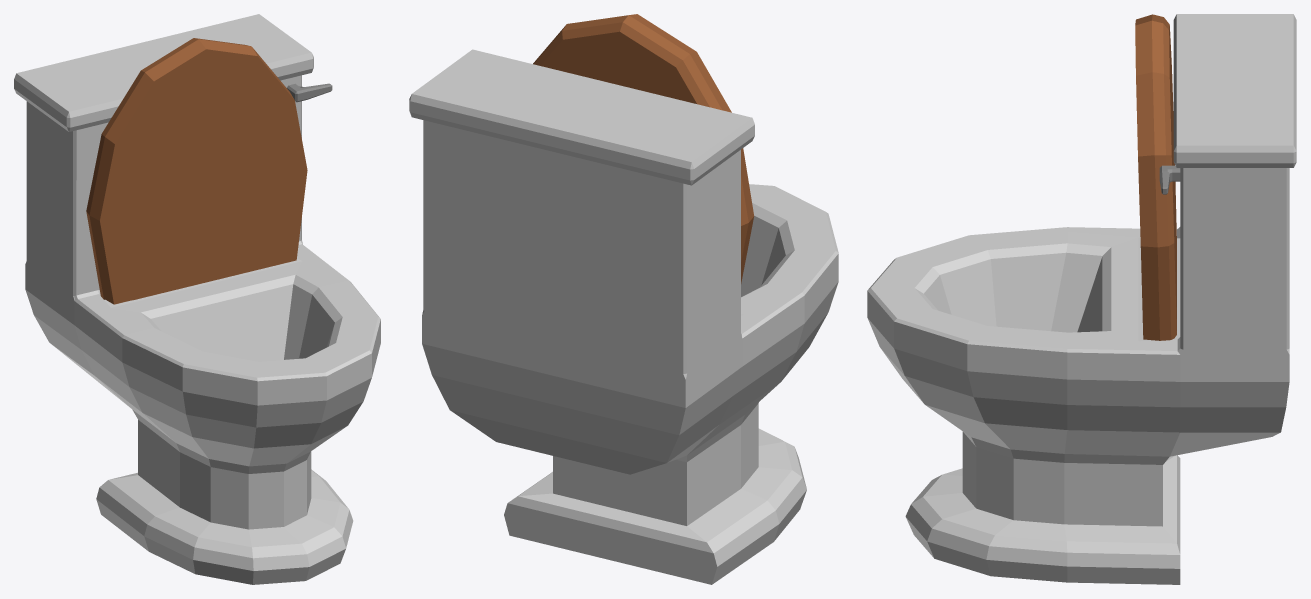
Rendered from Toilet.glb.
3 renders of one model, left to right at view 1: azimuth 30°, elevation 25°; view 2: azimuth 150°, elevation 25°; view 3: azimuth 270°, elevation 25°, orthographic. The views are drawn at different scales.
Visible parts, largest first — view 1: Toilet; view 2: Toilet; view 3: Toilet.
Part boxes in pixels (x1,y1,x2,y2): Toilet: (14,14,380,584); Toilet: (409,14,838,584); Toilet: (867,14,1296,584).
Bounding box in the file's own units: 296 × 507 × 383.
